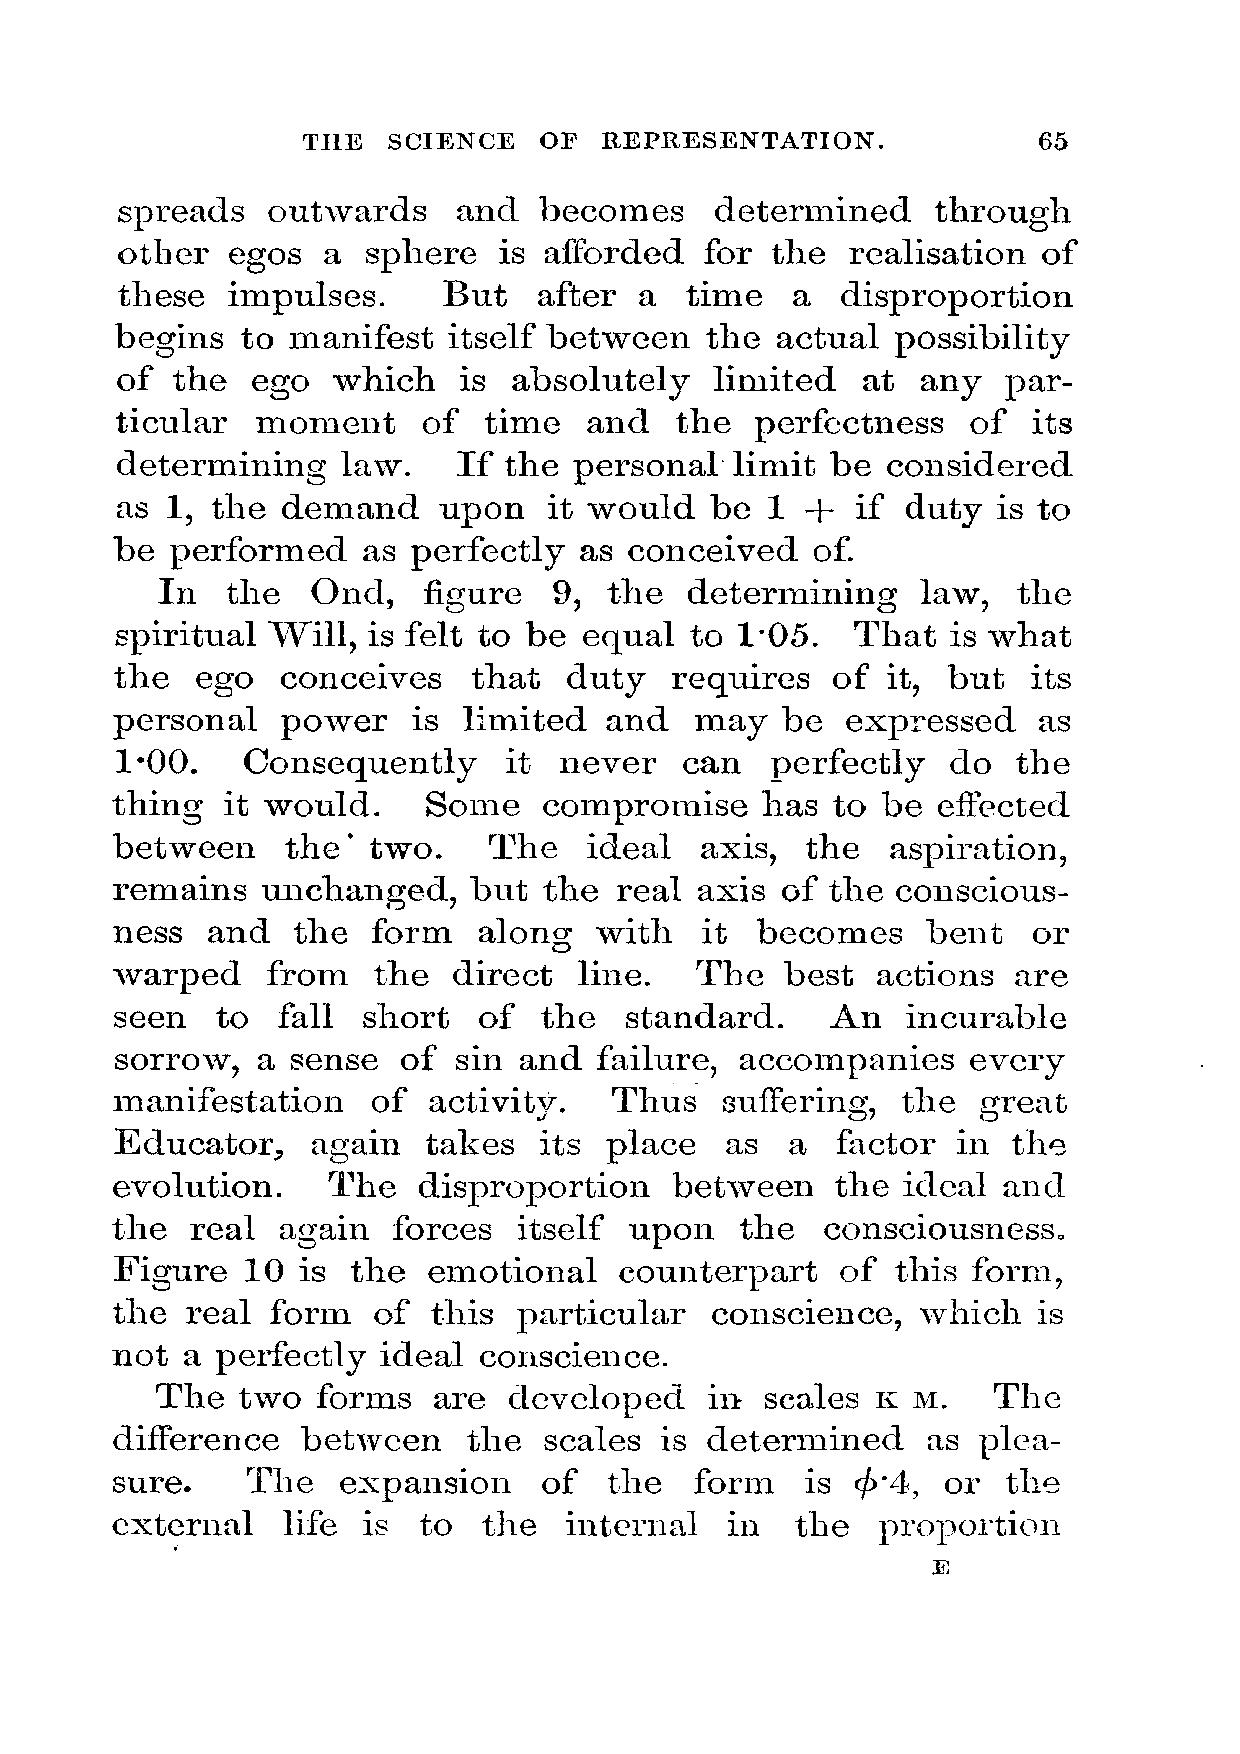content: (103, 191, 1078, 1543)
content_chapter: (297, 129, 884, 154)
content_pagenumber: (1033, 123, 1074, 156)
